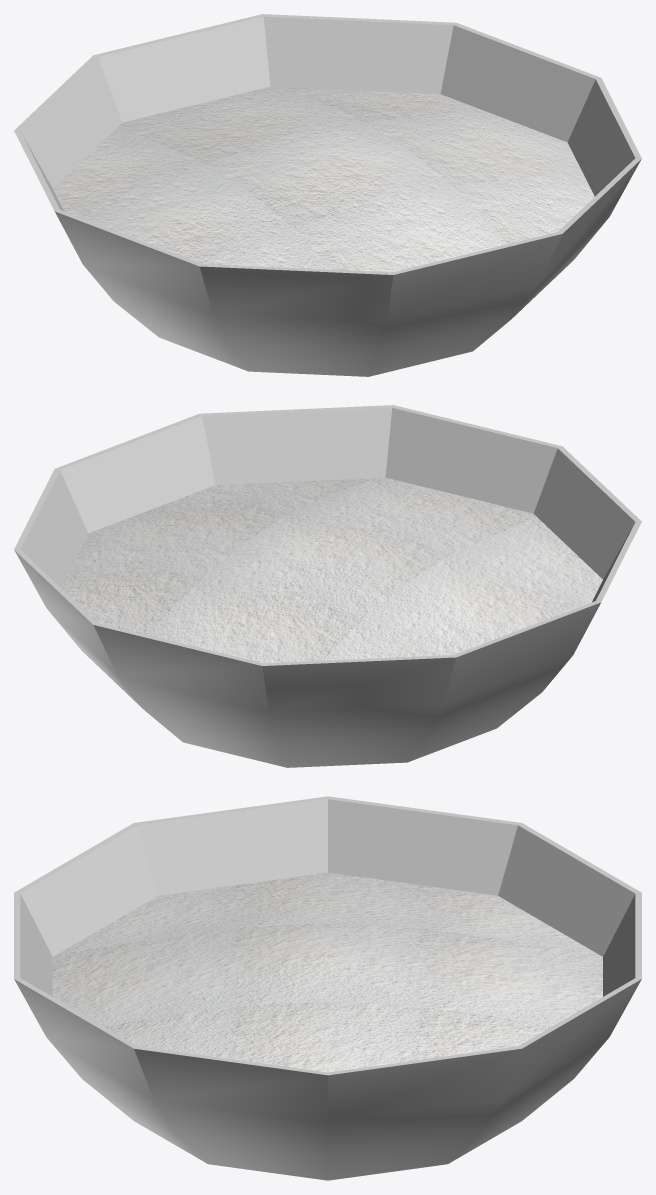
The model's file is flour.fbx.
The picture shows the model from 3 angles, top to bottom: view 1: azimuth 30°, elevation 25°; view 2: azimuth 150°, elevation 25°; view 3: azimuth 270°, elevation 25°; orthographic projection. The views are drawn at different scales.
Parts seen in each view (by area): view 1: box, flour2; view 2: box, flour2; view 3: box, flour2.
Part boxes in pixels (box(x1,y1,x2,y2)): box: box(14, 14, 641, 376); flour2: box(53, 86, 594, 272); box: box(14, 405, 641, 767); flour2: box(61, 477, 602, 663); box: box(14, 796, 641, 1180); flour2: box(52, 872, 602, 1072).
Size of the model in its own units: 43.24 by 12.99 by 41.12.
Materials: 2 (1 with a texture image).
